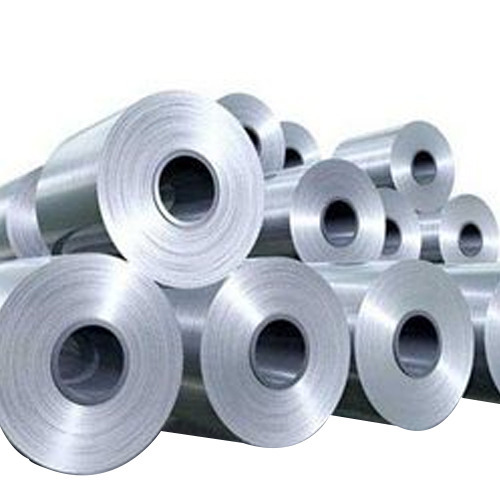steel-coil: (29, 74, 494, 431), (41, 74, 274, 287), (8, 254, 203, 430), (357, 258, 478, 429), (288, 142, 397, 266)
